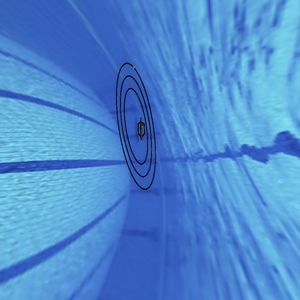circle: (101, 53, 171, 199)
submarine: (132, 114, 149, 143)
